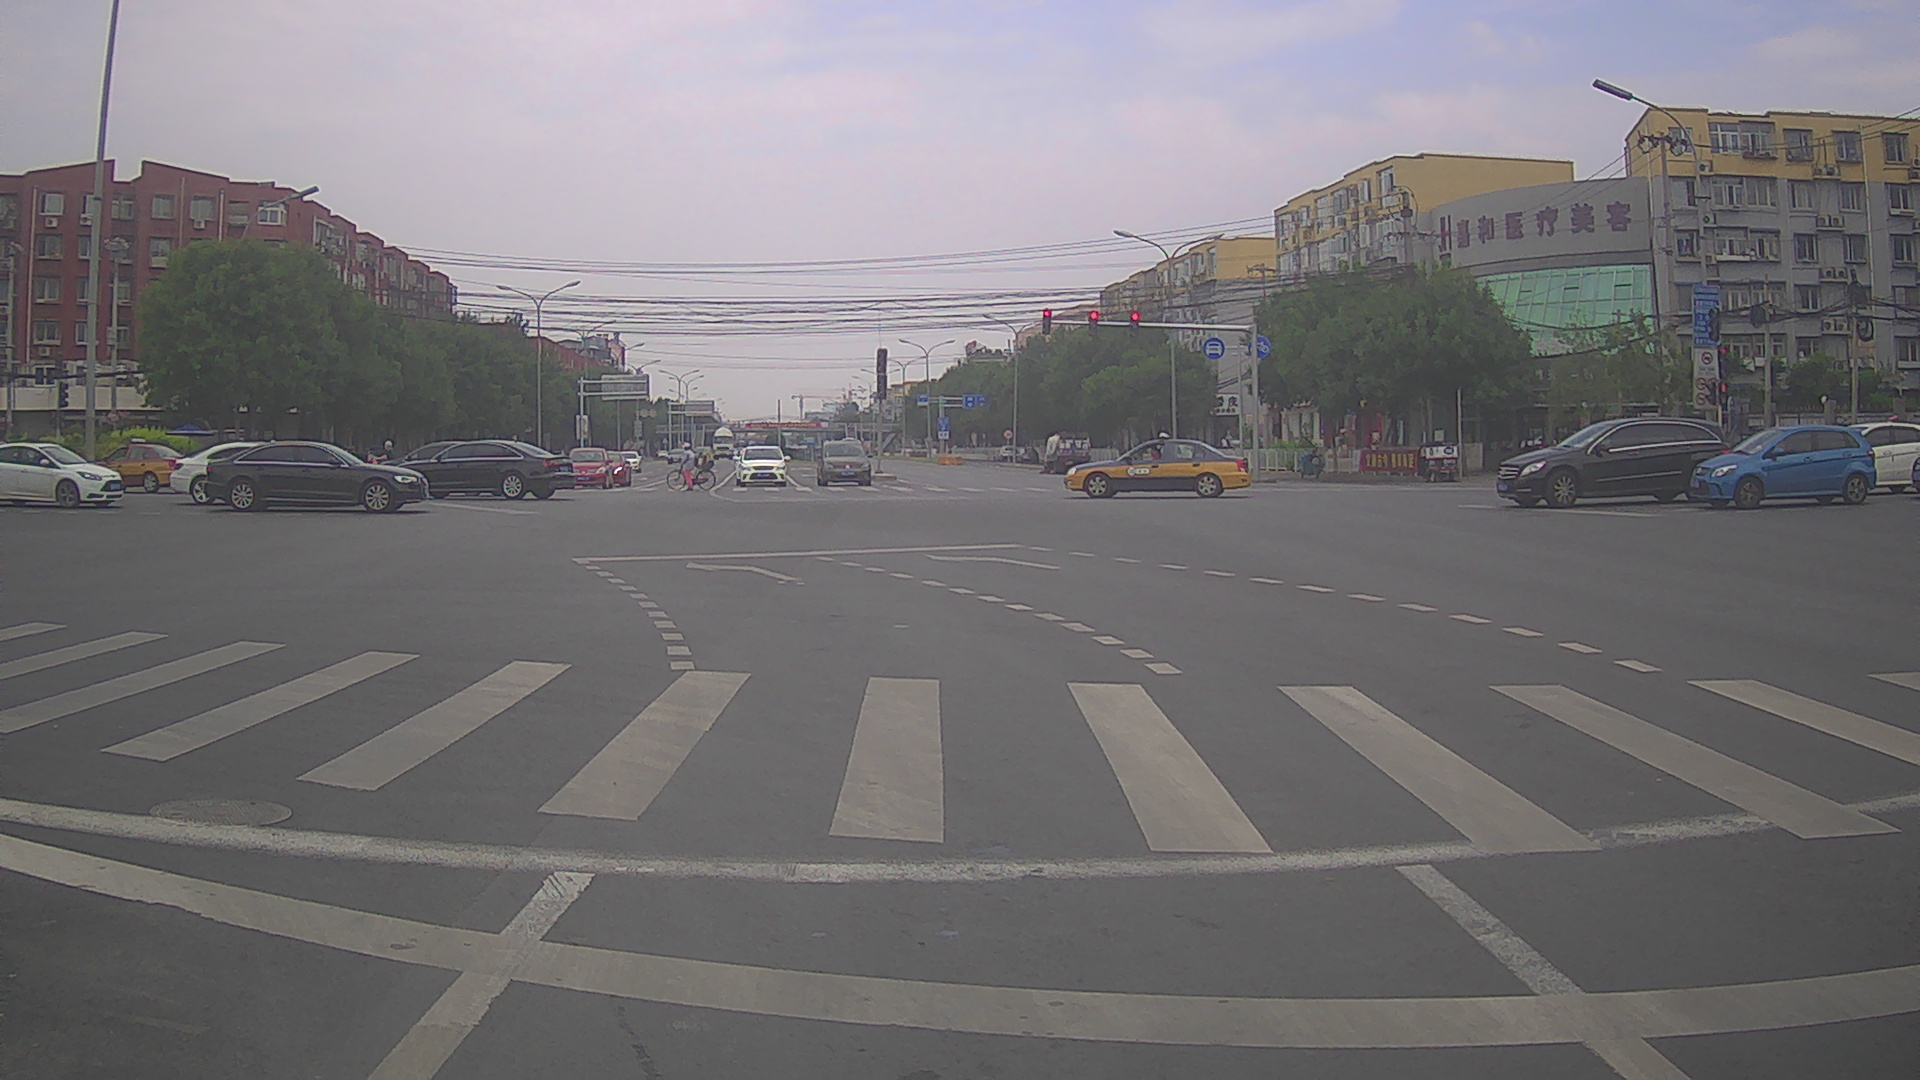car: (1495, 416, 1730, 508), (201, 440, 429, 512), (1686, 423, 1876, 508), (1063, 431, 1251, 498), (395, 439, 574, 499), (169, 442, 311, 504), (1, 441, 122, 510), (1808, 422, 1916, 493), (379, 441, 506, 497), (87, 437, 186, 495), (814, 439, 873, 486), (731, 444, 791, 487), (565, 447, 613, 489), (590, 452, 631, 486), (616, 451, 642, 473), (1016, 447, 1039, 463), (694, 445, 712, 461), (998, 445, 1016, 462), (666, 448, 685, 464), (657, 449, 668, 459)
cyclist: (665, 445, 715, 492)
ignore: (798, 437, 814, 446)
pedestrian: (371, 439, 396, 492), (654, 448, 658, 459)
tricyclelist: (1417, 441, 1458, 483), (1297, 449, 1325, 479)
truck: (1044, 432, 1090, 475), (712, 426, 734, 461)
